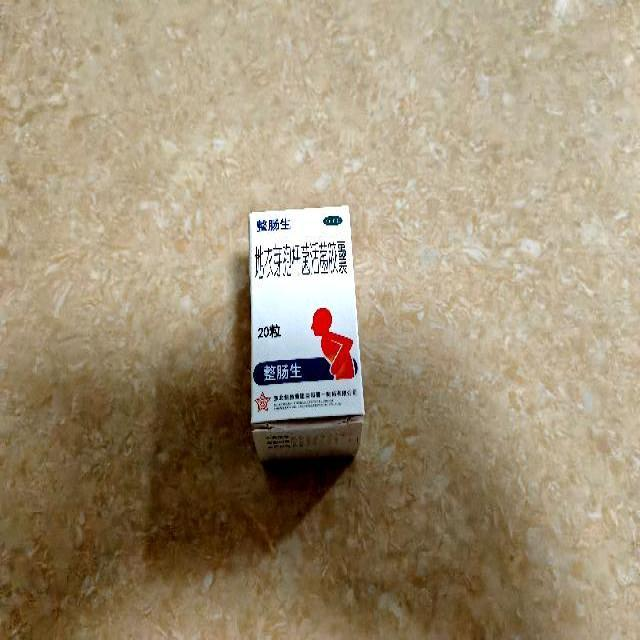box: (250, 206, 364, 461)
